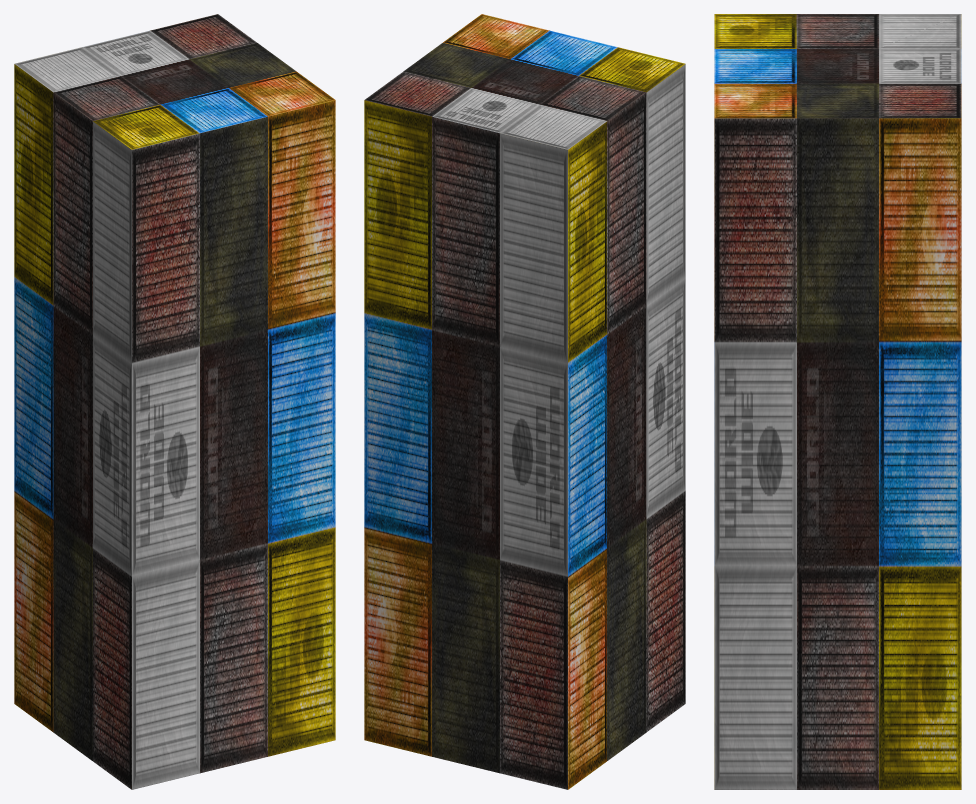
The model's file is 6x6x18CargoContainers_wtf.obj.
3 views of the same model, side by side, from view 1: azimuth 30°, elevation 25°; view 2: azimuth 150°, elevation 25°; view 3: azimuth 270°, elevation 25° (orthographic). The views are drawn at different scales.
Visible parts, largest first — view 1: group2; view 2: group2; view 3: group2.
Part boxes in pixels (x1,y1,x2,y2): group2: (14,14,335,789); group2: (364,14,685,789); group2: (714,14,961,789).
Bounding box in the file's own units: 220 × 660 × 220.
